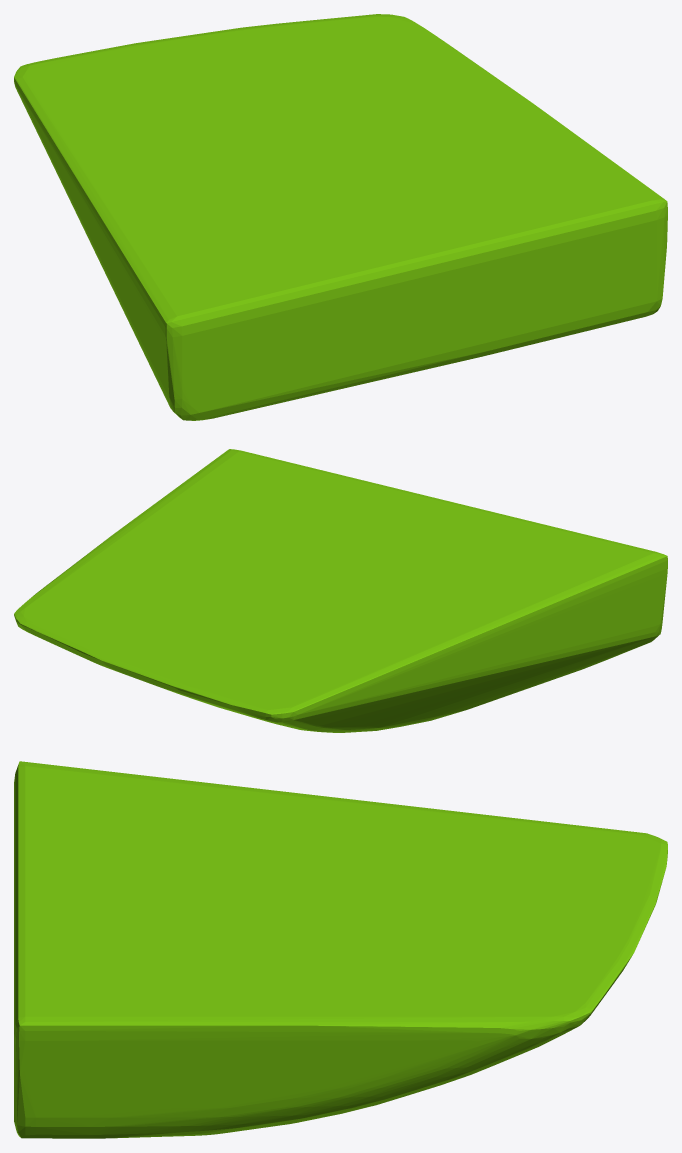
File: left_hip_pitch_link_part_4.obj
The picture shows the model from 3 angles, top to bottom: view 1: azimuth 30°, elevation 25°; view 2: azimuth 150°, elevation 25°; view 3: azimuth 270°, elevation 25°; orthographic projection. The views are drawn at different scales.
Size of the model in its own units: 0.0795 by 0.017 by 0.083.
